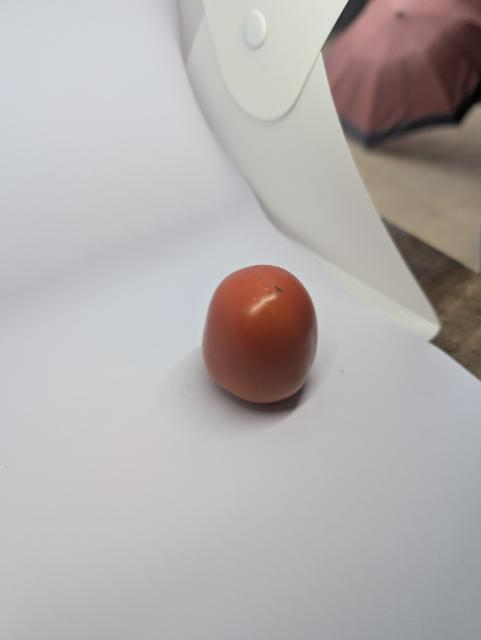red: (185, 250, 347, 412)
